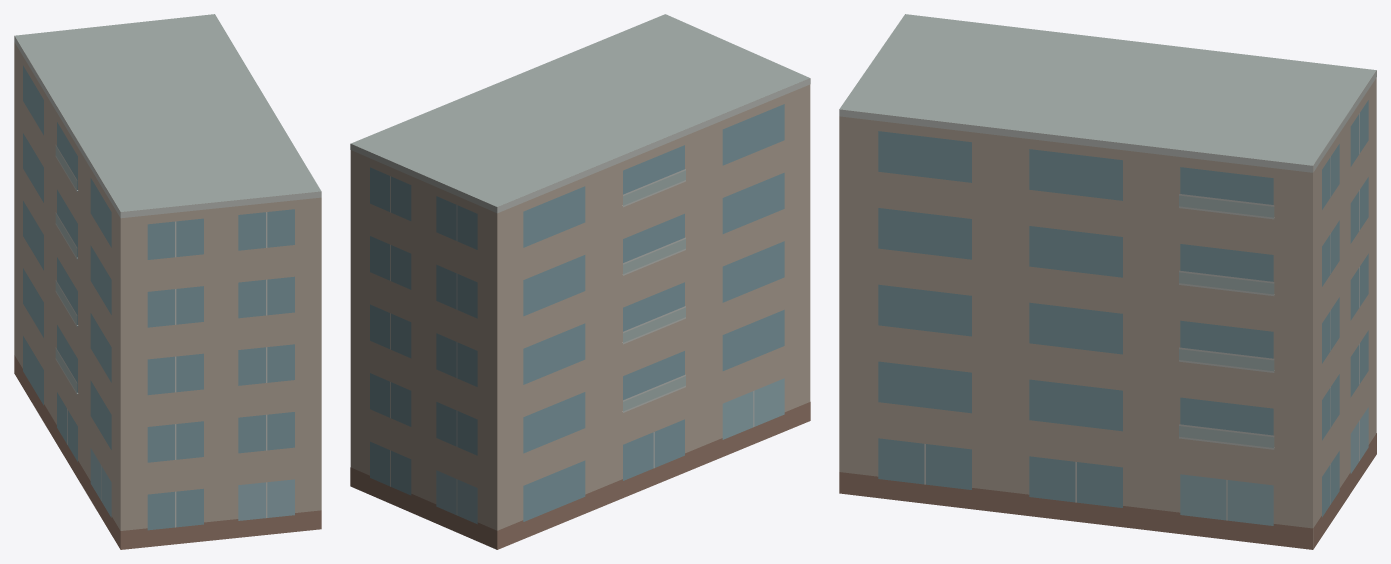
The model's file is survey-upis-33015457.glb.
3 views of the same model, side by side, from view 1: azimuth 30°, elevation 25°; view 2: azimuth 150°, elevation 25°; view 3: azimuth 270°, elevation 25° (orthographic). The views are drawn at different scales.
Parts seen in each view (by area): view 1: survey-upis-33015457.tmp; view 2: survey-upis-33015457.tmp; view 3: survey-upis-33015457.tmp.
Part boxes in pixels (x1,y1,x2,y2): survey-upis-33015457.tmp: (14, 14, 321, 549); survey-upis-33015457.tmp: (350, 14, 810, 549); survey-upis-33015457.tmp: (839, 14, 1376, 549).
Bounding box in the file's own units: 11.37 × 13.4 × 17.01.
